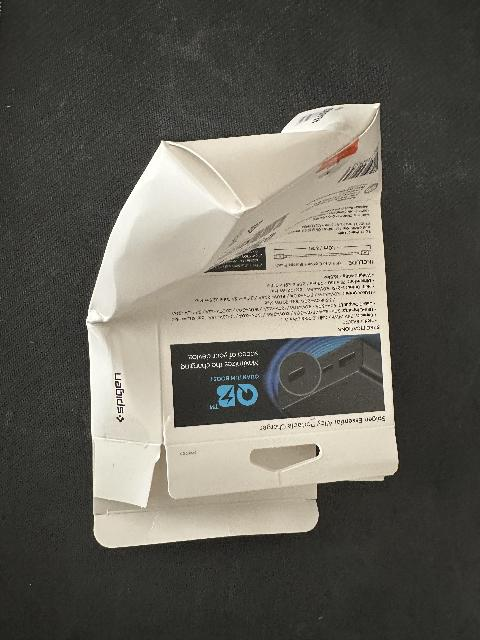Kagit: (67, 97, 406, 548)
